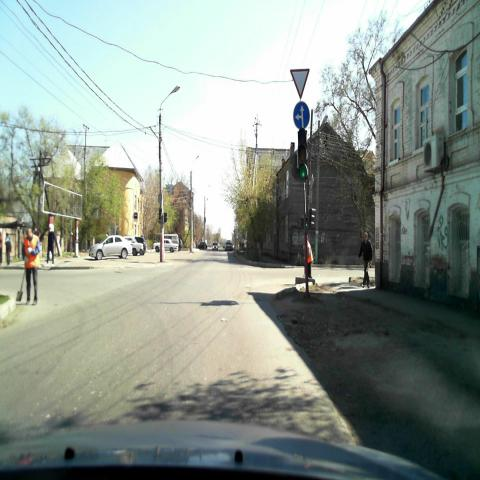4_1_5: (292, 101, 310, 131)
